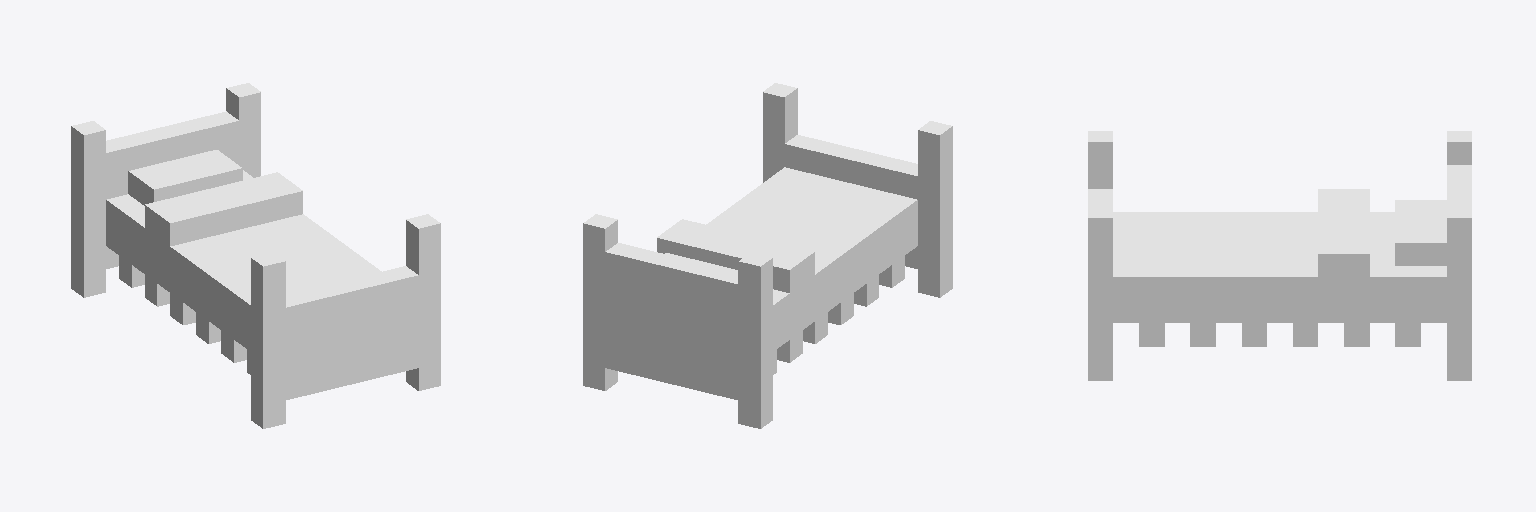
Rendered from Bed_Simple_Twin.obj.
3 renders of one model, left to right at view 1: azimuth 30°, elevation 25°; view 2: azimuth 150°, elevation 25°; view 3: azimuth 270°, elevation 25°, orthographic.
Visible parts, largest first — view 1: Bed_Simple_Twin; view 2: Bed_Simple_Twin; view 3: Bed_Simple_Twin.
Part boxes in pixels (x1,y1,x2,y2): Bed_Simple_Twin: (71,83,440,428); Bed_Simple_Twin: (583,83,952,428); Bed_Simple_Twin: (1088,131,1471,380).
Size of the model in its own units: 8 by 7 by 15.